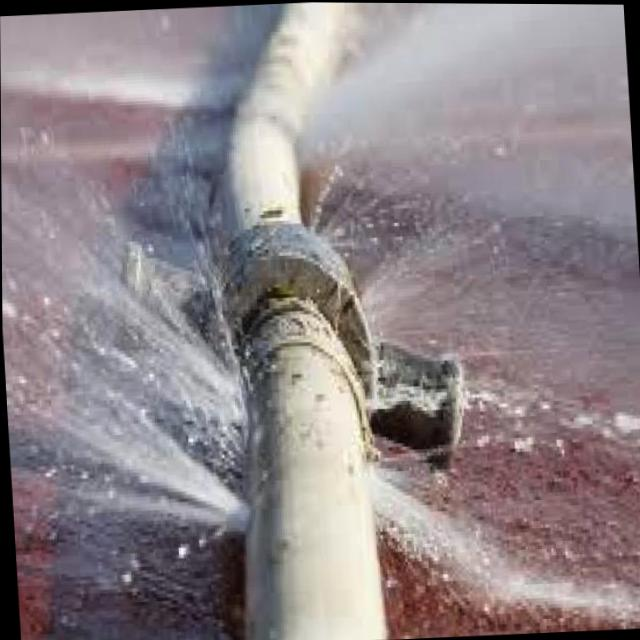leak: (307, 3, 640, 639), (0, 7, 253, 640)
